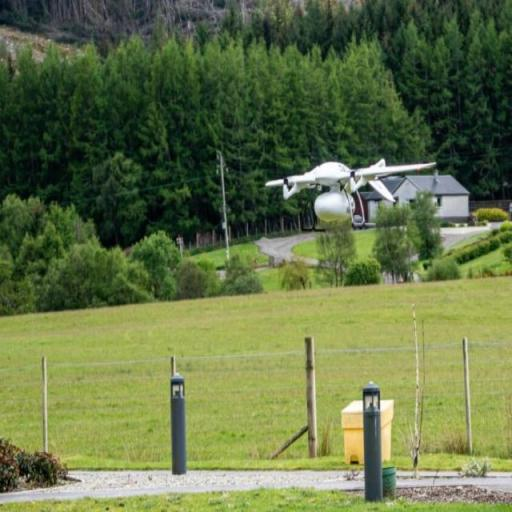uav: (260, 146, 446, 225)
